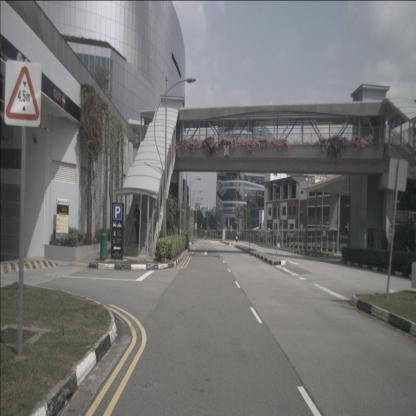human-pedestrian-adult: (134, 205, 140, 246)
